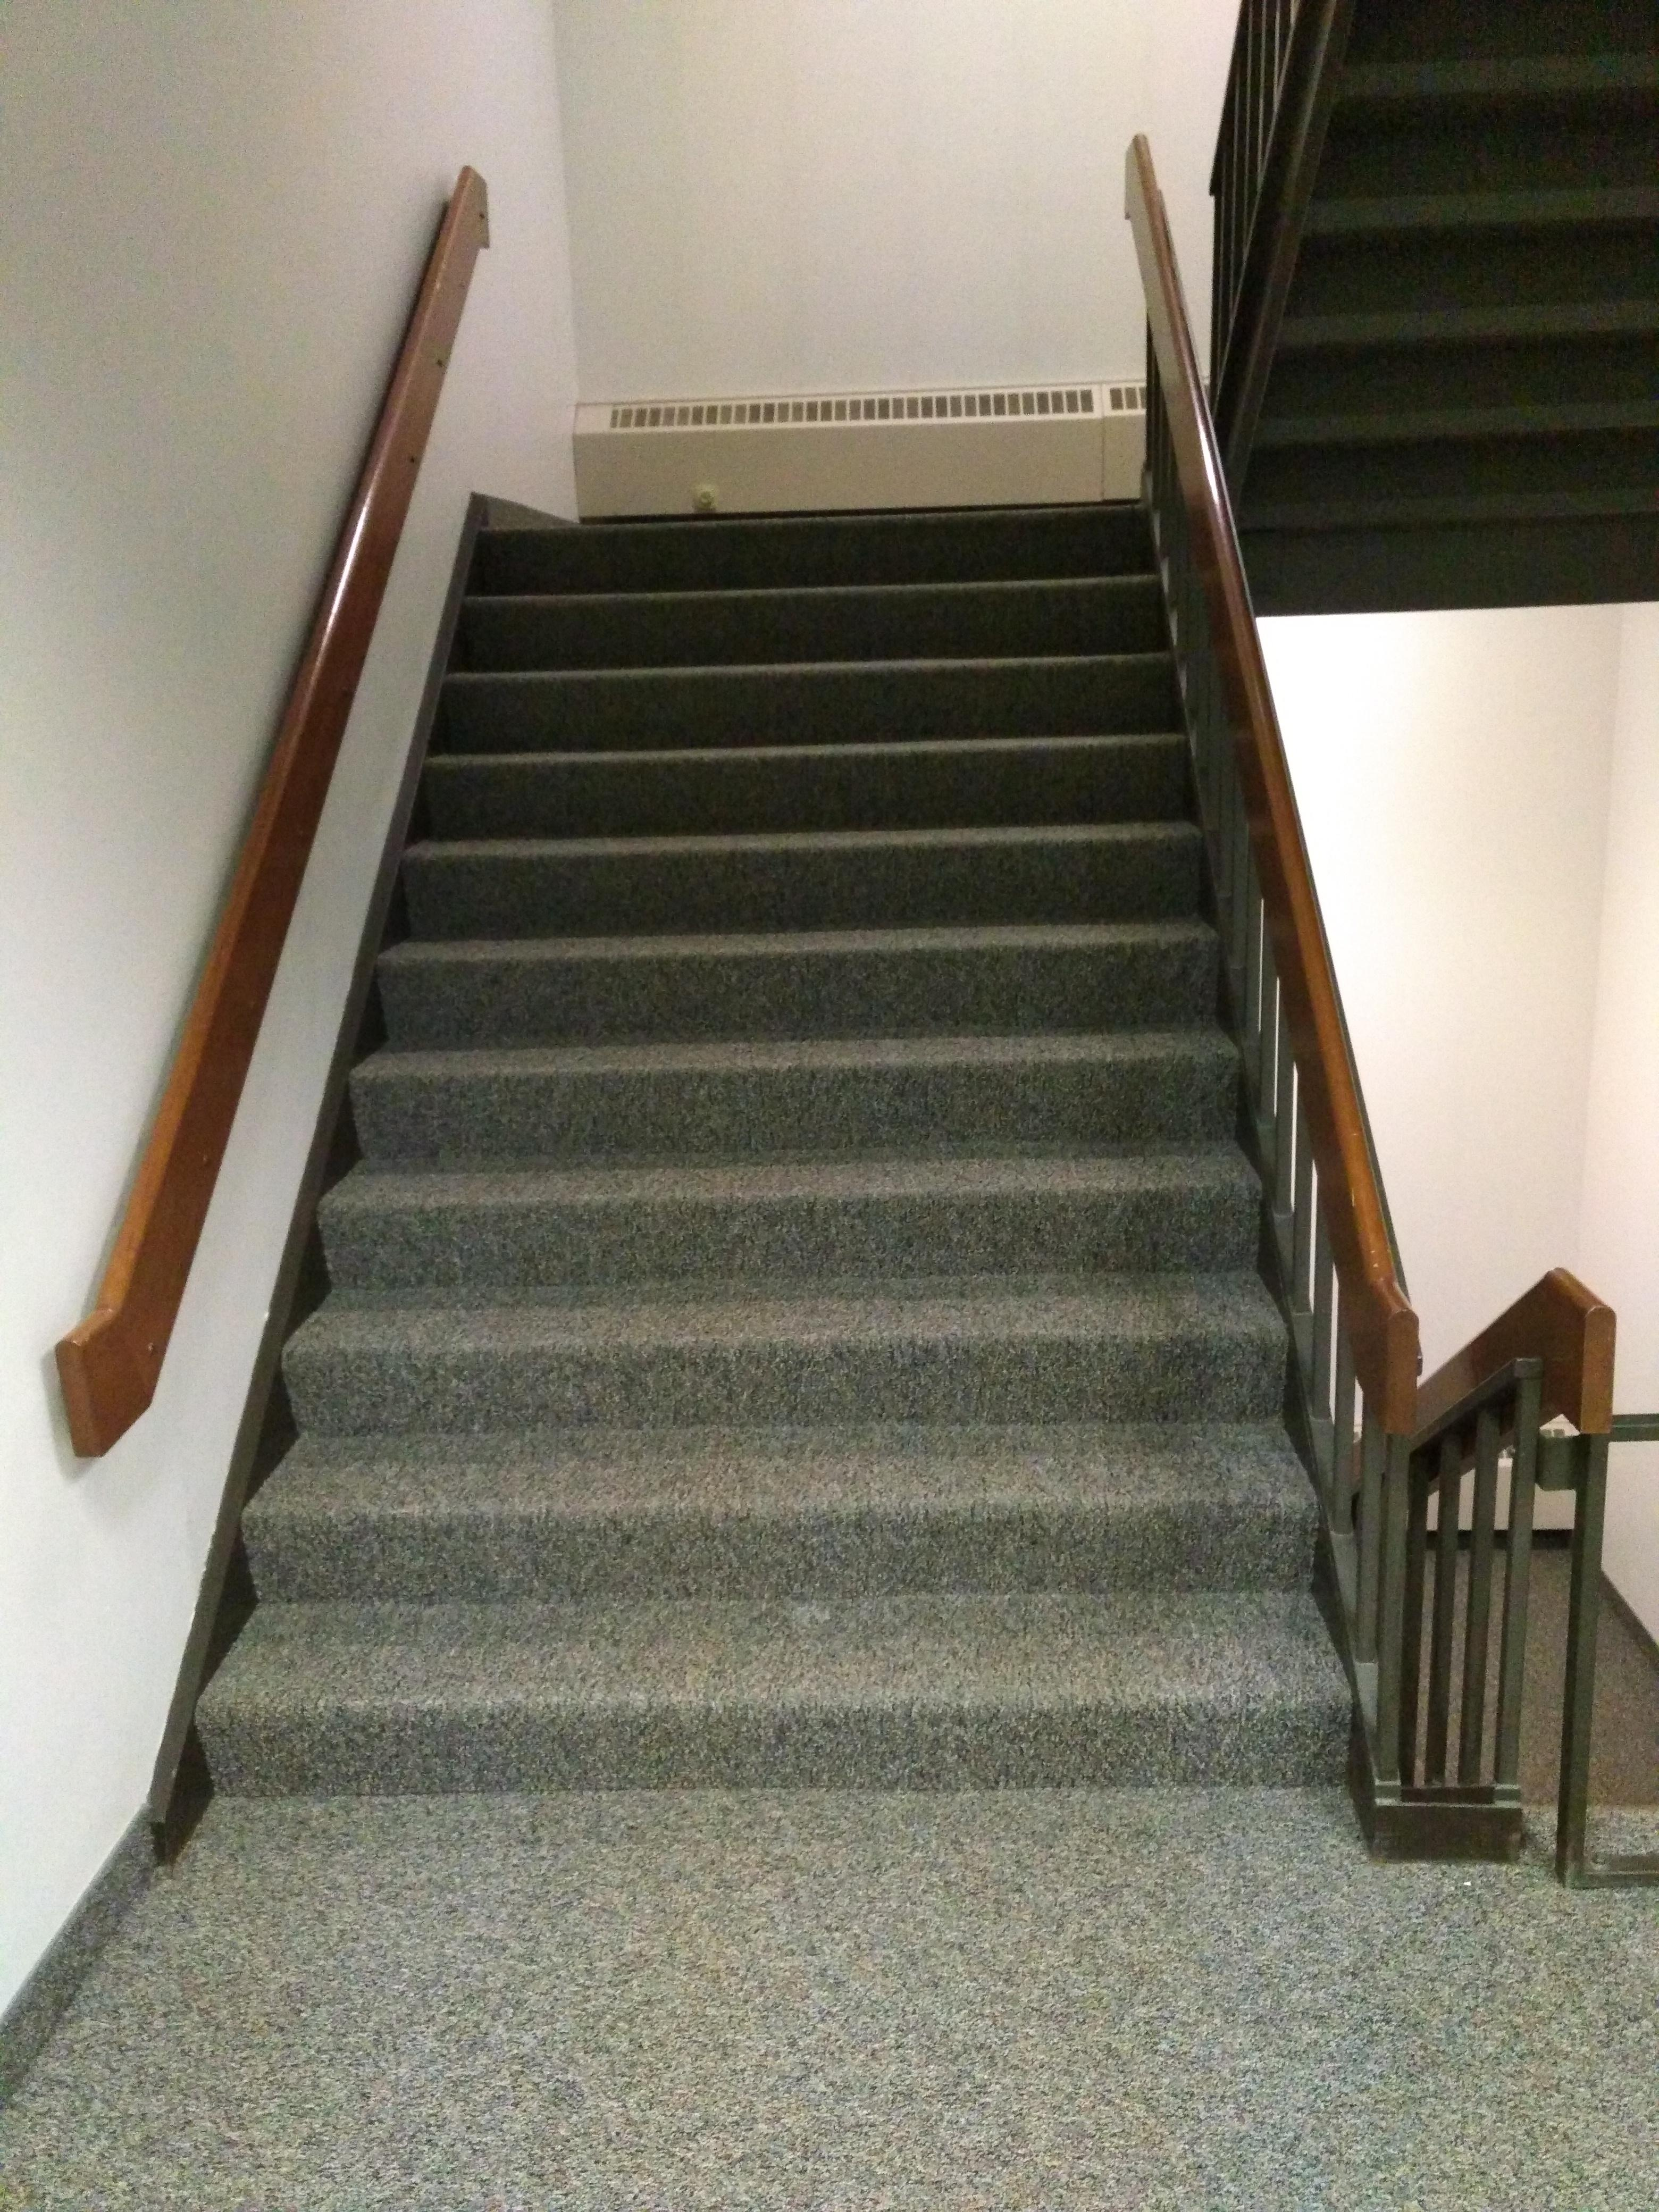stairs_up: (197, 498, 1361, 1796)
